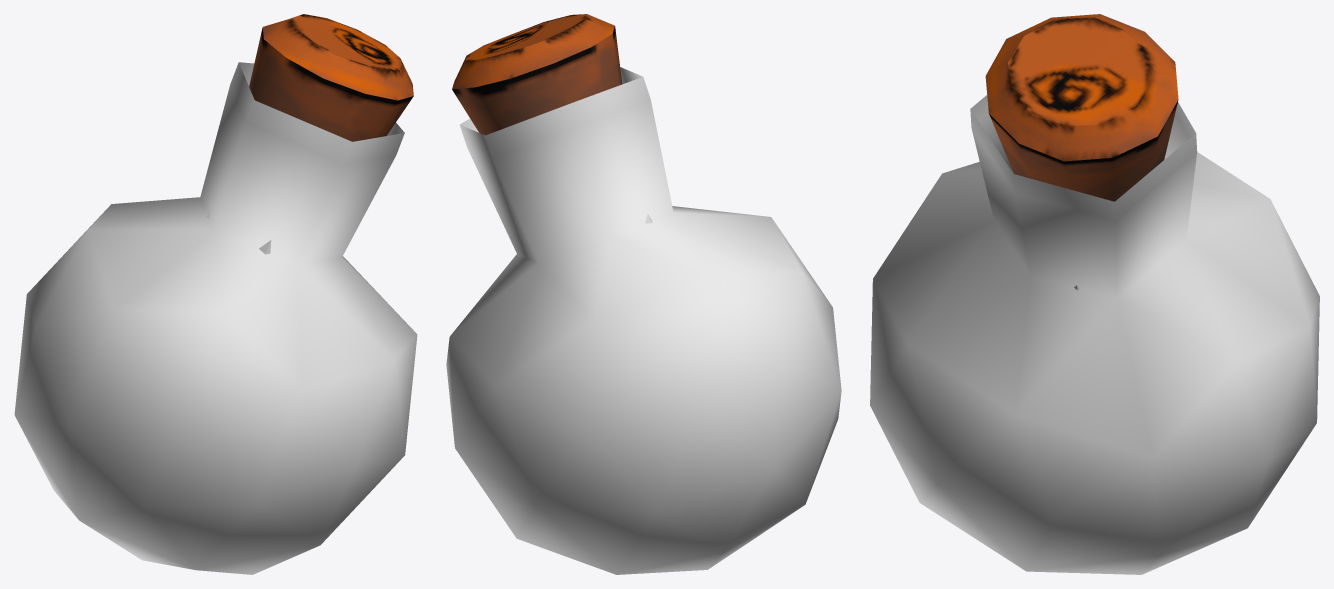
The model's file is Potion_Sphere.fbx.
The picture shows the model from 3 angles, left to right: view 1: azimuth 30°, elevation 25°; view 2: azimuth 150°, elevation 25°; view 3: azimuth 270°, elevation 25°; orthographic projection. The views are drawn at different scales.
Parts seen in each view (by area): view 1: opaque glass_smooth, cork.005; view 2: opaque glass_smooth, cork.005; view 3: opaque glass_smooth, cork.005.
Boxes of the visible parts, x1,y1,x2,y2 form: opaque glass_smooth: (14,62,417,574); cork.005: (249,14,413,141); opaque glass_smooth: (446,67,841,574); cork.005: (452,14,622,135); opaque glass_smooth: (870,95,1319,574); cork.005: (985,14,1178,201).
Bounding box in the file's own units: 67.89 × 65.5 × 92.79.
Materials: 3 (1 with a texture image).
